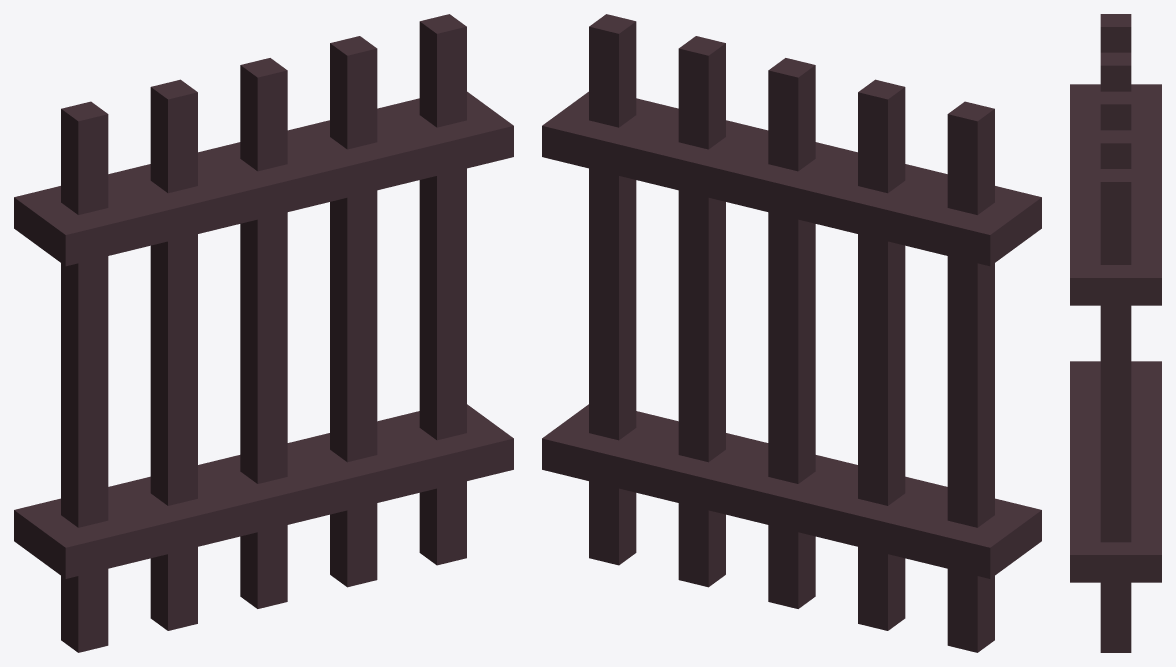
Rendered from gate_b.obj.
3 views of the same model, side by side, from view 1: azimuth 30°, elevation 25°; view 2: azimuth 150°, elevation 25°; view 3: azimuth 270°, elevation 25° (orthographic). The views are drawn at different scales.
Bounding box in the file's own units: 1.5 × 1.7 × 0.3.
1 material, 1 textured.
